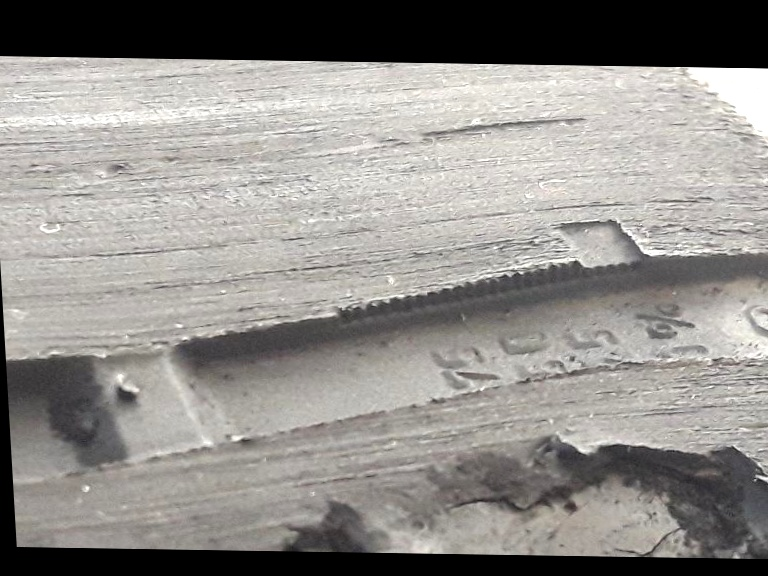temoin:0: (536, 203, 665, 309)
